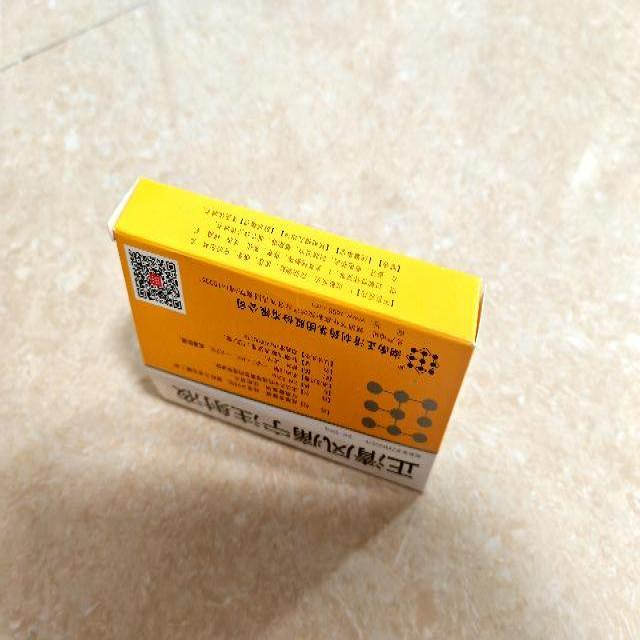box: (112, 175, 484, 492)
